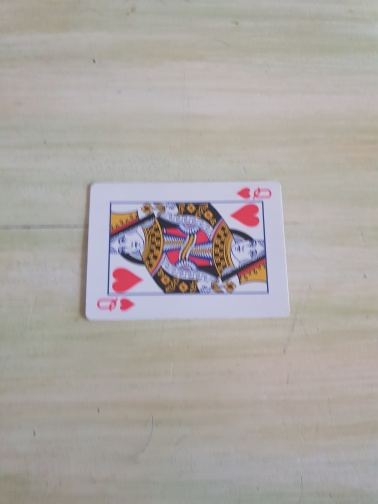queen: (84, 181, 290, 321)
